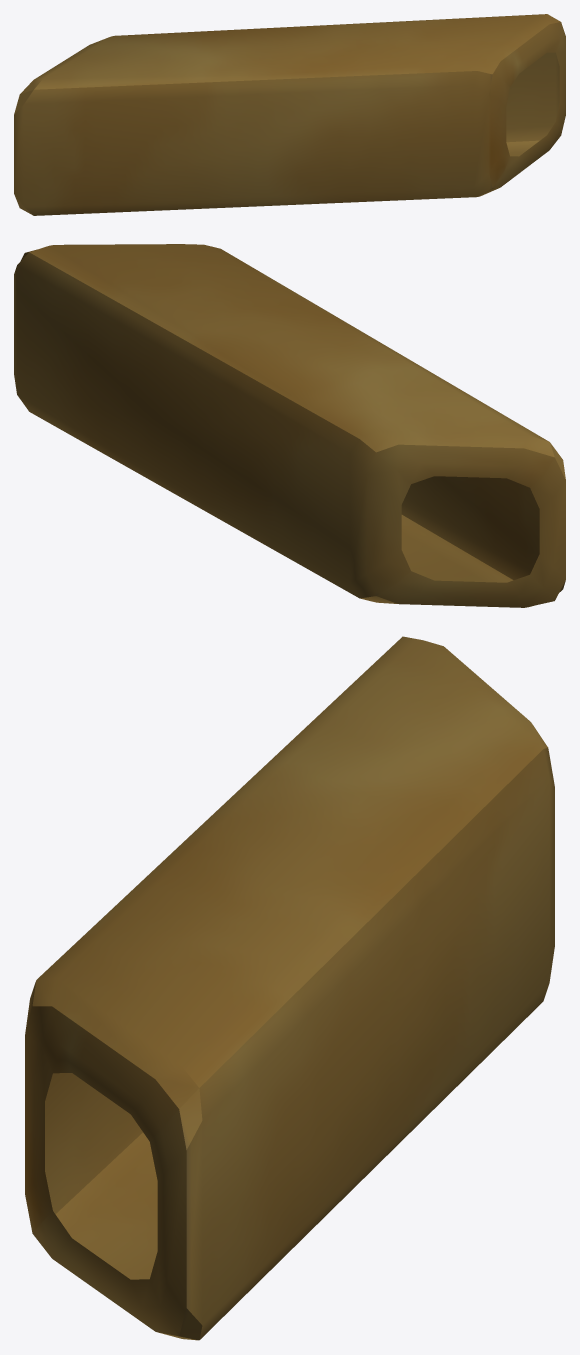
The model's file is pasta.fbx.
3 views of the same model, one above another, from view 1: azimuth 30°, elevation 25°; view 2: azimuth 150°, elevation 25°; view 3: azimuth 270°, elevation 25° (orthographic). The views are drawn at different scales.
Parts seen in each view (by area): view 1: Cube.015; view 2: Cube.015; view 3: Cube.015.
Boxes of the visible parts, <box> form: Cube.015: <box>14,14,565,215</box>; Cube.015: <box>14,244,565,607</box>; Cube.015: <box>25,636,554,1340</box>.
Bounding box in the file's own units: 7.75 × 2.04 × 3.6.
